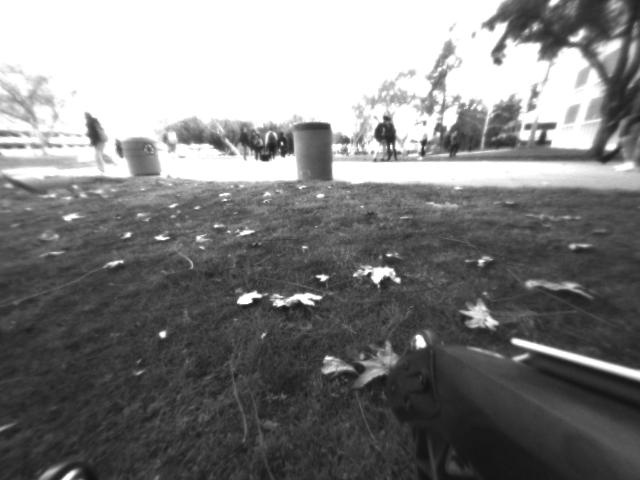trashcan: (288, 124, 331, 184), (121, 136, 165, 182)
